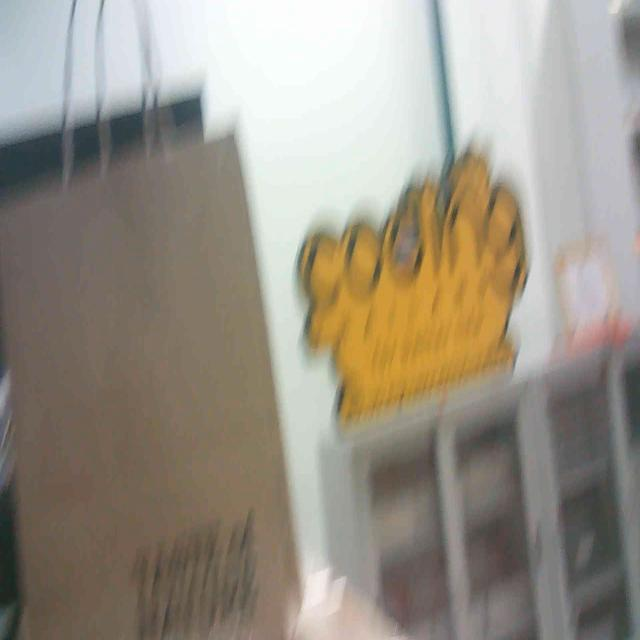bag: (5, 87, 312, 640)
